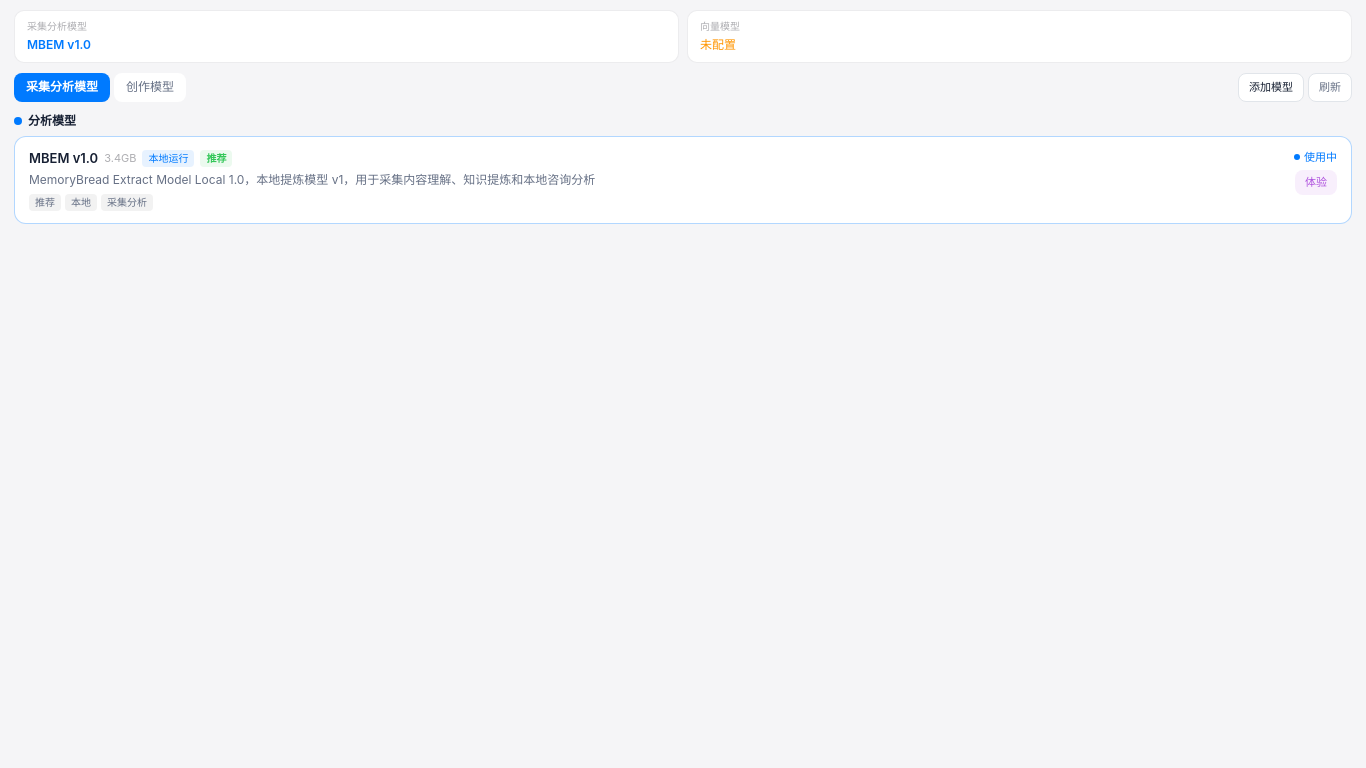
Test: 模型管理 › 本地创作模型展示容量并提供体验入口
This screenshot has width=1366, height=768.
Step 1. Click the button "创作模型" → [150, 87], box [114, 73, 186, 102]
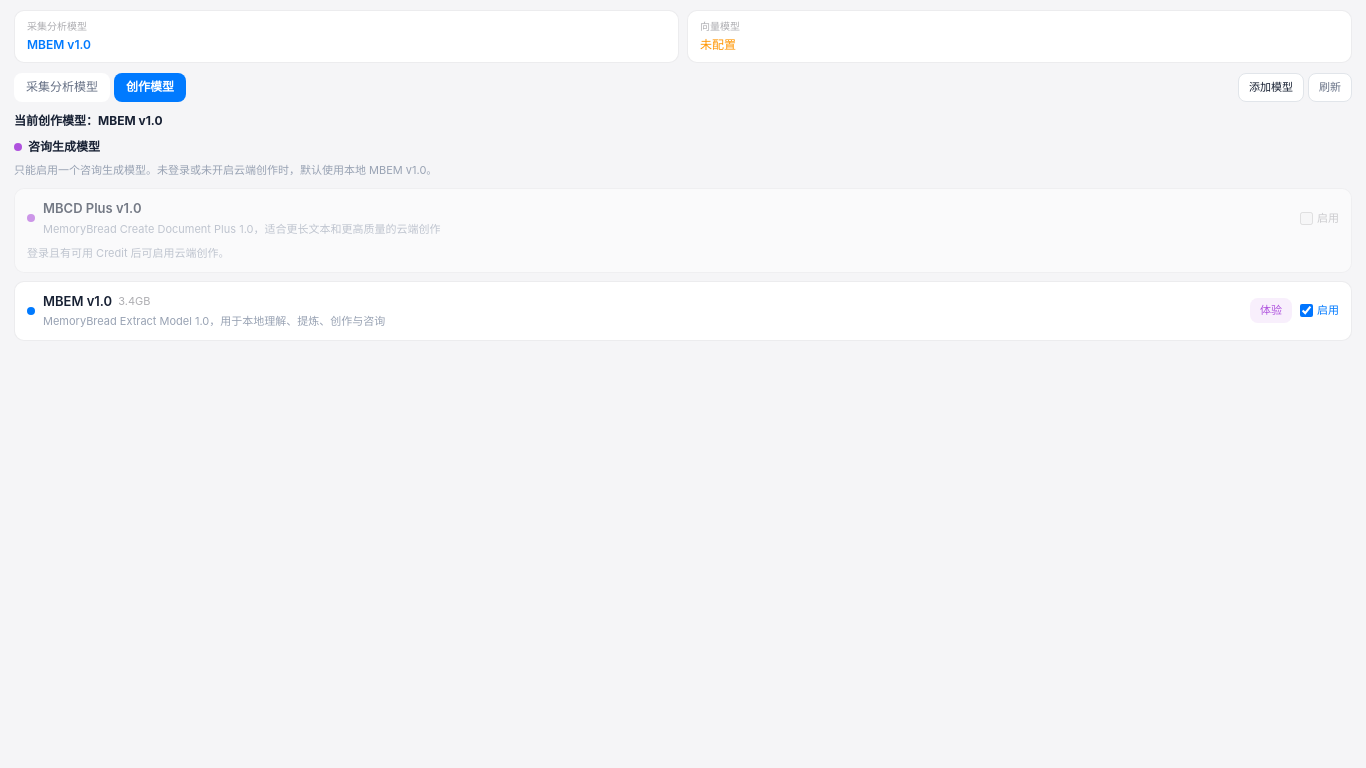
Expected: the text "3.4GB" is shown, [118, 293, 150, 310]
Step 2. Click the button "体验" → [1271, 311], box [1250, 298, 1292, 323]
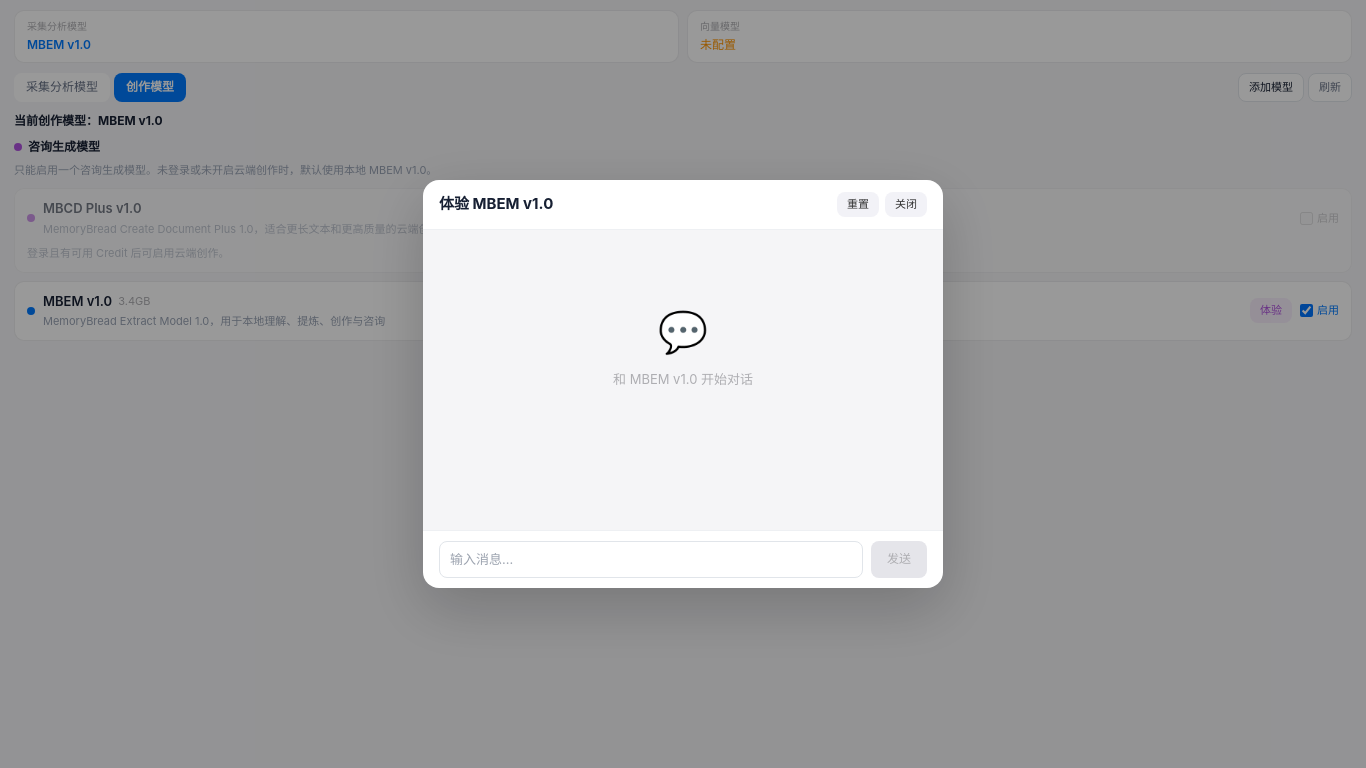
Now the text "体验 MBEM v1.0" is shown, box [439, 193, 553, 216]
